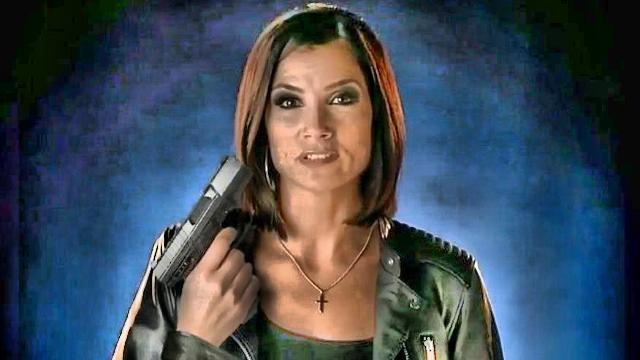pistol: (140, 158, 266, 323)
